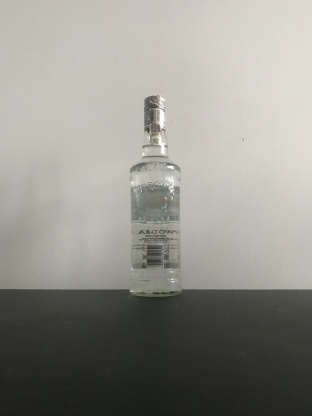nakretka: (142, 92, 167, 133)
